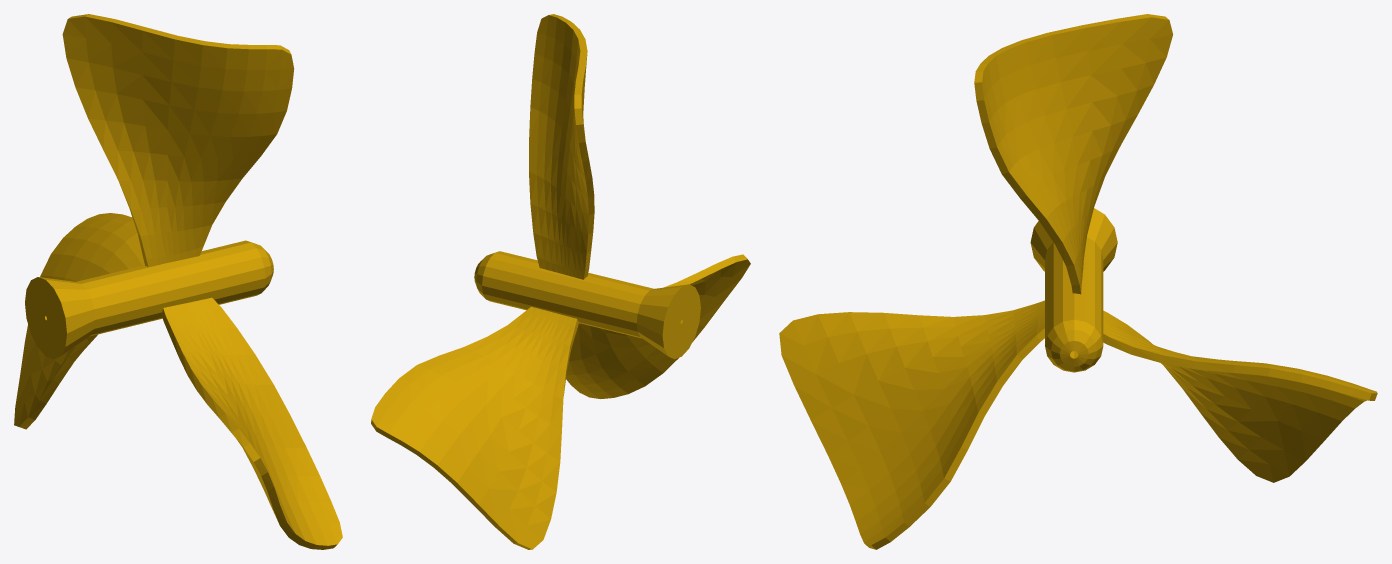
File: propeller.dae
3 renders of one model, left to right at view 1: azimuth 30°, elevation 25°; view 2: azimuth 150°, elevation 25°; view 3: azimuth 270°, elevation 25°, orthographic. The views are drawn at different scales.
Parts seen in each view (by area): view 1: Plane_007, Plane_006; view 2: Plane_007, Plane_006; view 3: Plane_007, Plane_006.
Part boxes in pixels (x1=…): Plane_007: x1=14, y1=14, x2=342, y2=549; Plane_006: x1=25, y1=240, x2=273, y2=359; Plane_007: x1=371, y1=14, x2=750, y2=549; Plane_006: x1=474, y1=251, x2=700, y2=359; Plane_007: x1=779, y1=14, x2=1377, y2=549; Plane_006: x1=1030, y1=208, x2=1117, y2=372.
Bounding box in the file's own units: 0.0323 × 0.0727 × 0.0643.
